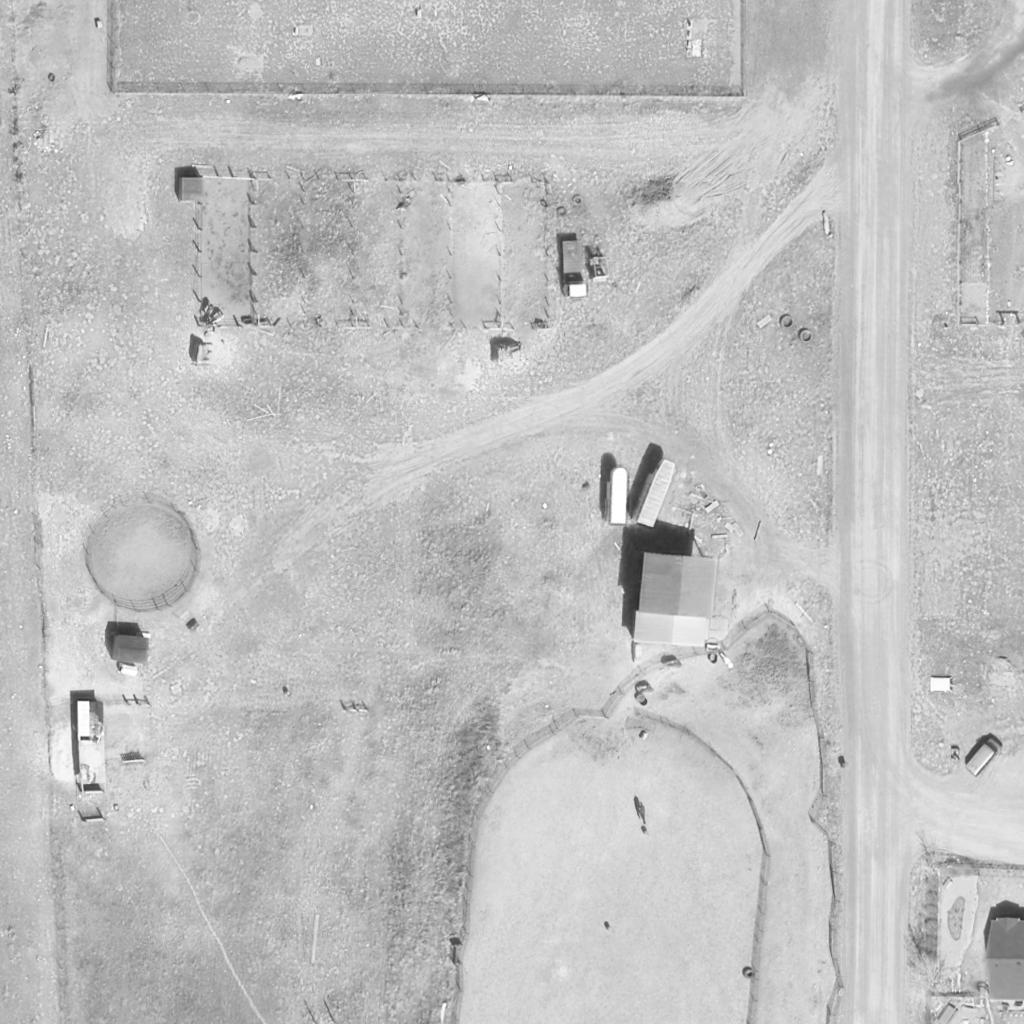vehicle: (964, 736, 1002, 776), (562, 240, 584, 300)
